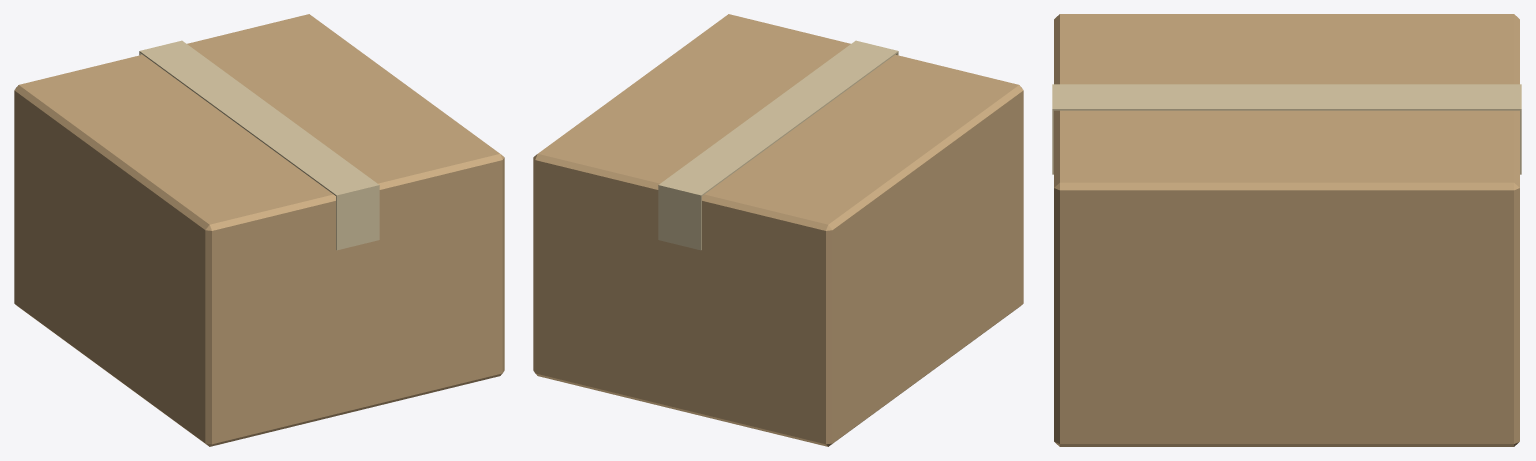
The picture shows the model from 3 angles, left to right: view 1: azimuth 30°, elevation 25°; view 2: azimuth 150°, elevation 25°; view 3: azimuth 270°, elevation 25°; orthographic projection. The views are drawn at different scales.
Parts seen in each view (by area): view 1: box_100; view 2: box_100; view 3: box_100.
Part boxes in pixels (left/top/right/bottom): box_100: left=14, top=14, right=504, bottom=446; box_100: left=533, top=14, right=1023, bottom=446; box_100: left=1052, top=14, right=1521, bottom=446.
Size of the model in its own units: 0.35 by 0.25 by 0.4.
